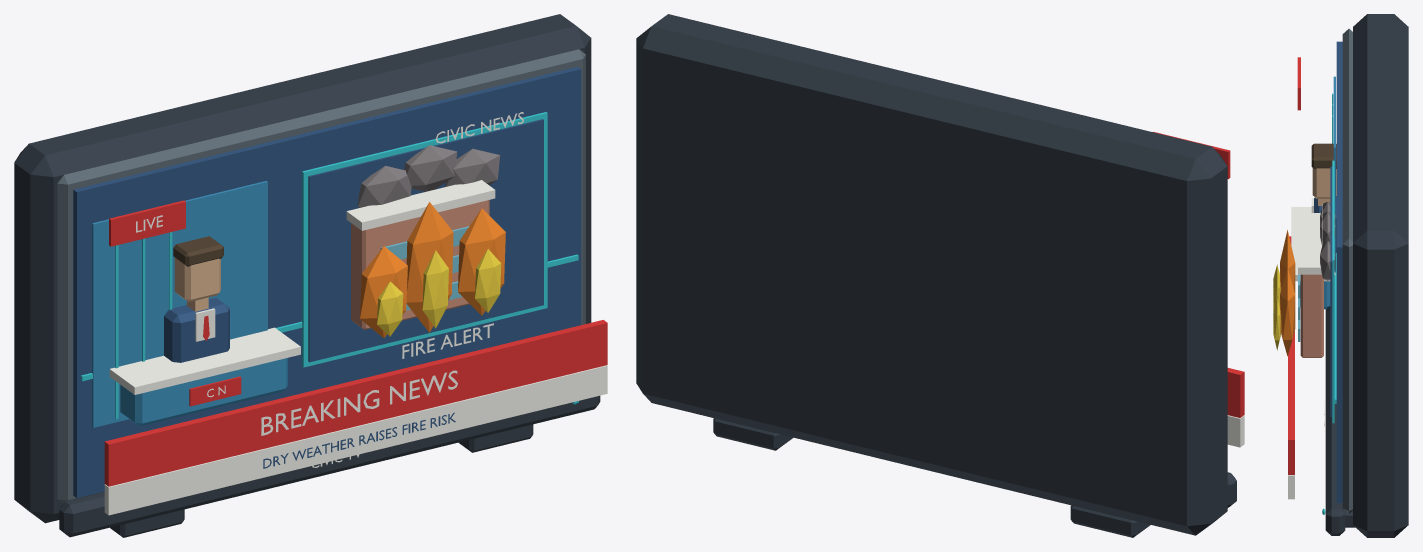
File: TV_News_Fire.fbx
3 renders of one model, left to right at view 1: azimuth 30°, elevation 25°; view 2: azimuth 150°, elevation 25°; view 3: azimuth 270°, elevation 25°, orthographic. The views are drawn at different scales.
Parts seen in each view (by area): view 1: Screen Background.015, TV Back Housing.015, Breaking Lower Third.015, Story Window.015, Studio Left Panel.015, Inner Screen Border.015, Hint Strip.015, Lower Bezel.015, Desk Top.015, Story Border.015, Desk.015, Building Facade.011 (+19 smaller); view 2: TV Back Housing.015, TV Foot.030, TV Foot.031, Breaking Lower Third.015; view 3: TV Back Housing.015, Inner Screen Border.015, Screen Background.015, Lower Bezel.015, Building Facade.011, Roof Trim.011, Outer Flame.011, Breaking Lower Third.015, Story Border.015, Story Window.015, Anchor Head.015, Anchor Hair.015 (+10 smaller).
Part boxes in pixels (x1,y1,x2,y2): Screen Background.015: (73, 66, 581, 498); TV Back Housing.015: (14, 14, 591, 523); Breaking Lower Third.015: (104, 320, 607, 486); Story Window.015: (308, 119, 543, 362); Studio Left Panel.015: (92, 181, 267, 427); Inner Screen Border.015: (57, 49, 585, 503); Hint Strip.015: (104, 365, 607, 515); Lower Bezel.015: (59, 395, 600, 537); Desk Top.015: (109, 327, 300, 394); Story Border.015: (302, 112, 547, 367); Desk.015: (120, 358, 287, 426); Building Facade.011: (351, 200, 489, 329); TV Back Housing.015: (636, 14, 1227, 535); TV Foot.030: (1070, 505, 1150, 537); TV Foot.031: (713, 418, 793, 450); Breaking Lower Third.015: (1227, 368, 1244, 417); TV Back Housing.015: (1353, 14, 1408, 537); Inner Screen Border.015: (1342, 28, 1352, 513); Screen Background.015: (1336, 41, 1342, 503); Lower Bezel.015: (1325, 307, 1345, 535); Building Facade.011: (1300, 274, 1323, 357); Roof Trim.011: (1298, 213, 1321, 274); Outer Flame.011: (1280, 267, 1295, 356); Breaking Lower Third.015: (1288, 236, 1294, 474); Story Border.015: (1332, 160, 1334, 423); Story Window.015: (1330, 166, 1332, 417); Anchor Head.015: (1312, 168, 1336, 198); Anchor Hair.015: (1311, 143, 1336, 168).
Size of the model in its own units: 418 by 275 by 104.
